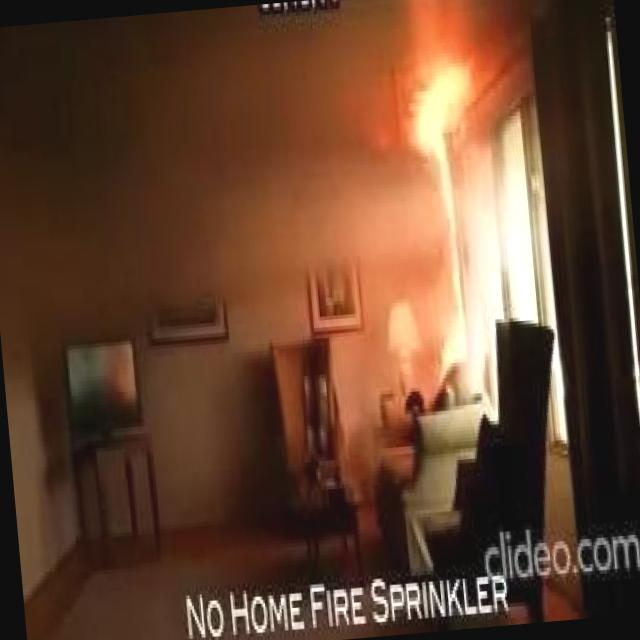fire: (369, 0, 506, 374)
